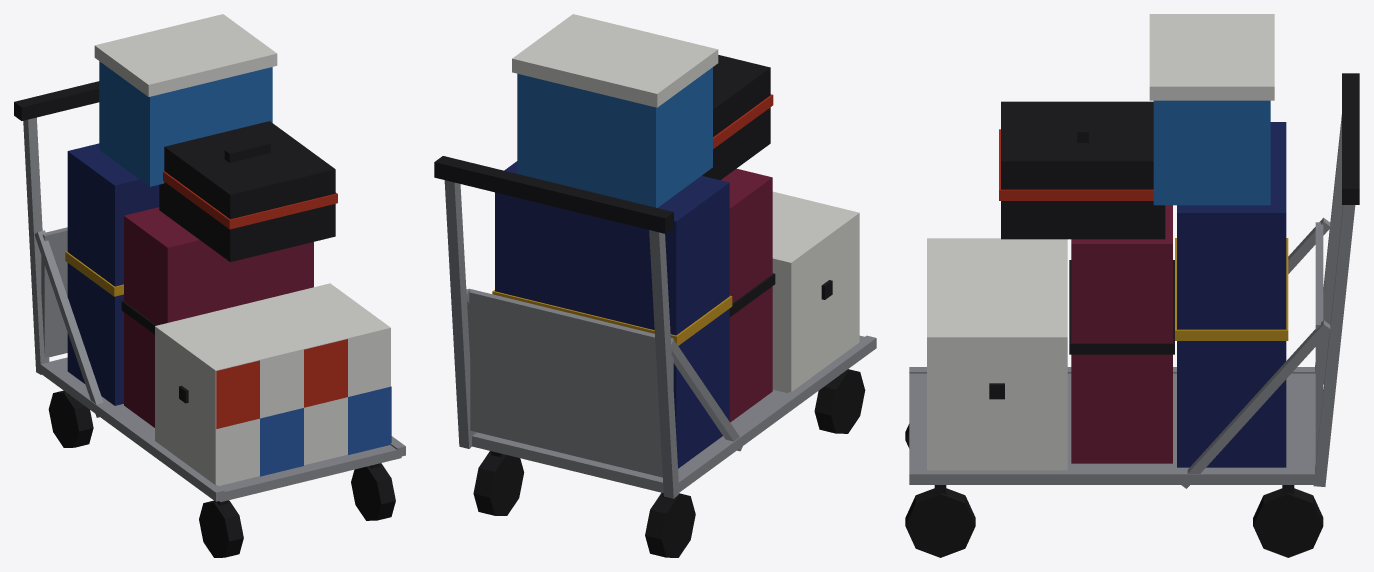
The model's file is prop_trolley.370afc834f6c.glb.
3 views of the same model, side by side, from view 1: azimuth 30°, elevation 25°; view 2: azimuth 150°, elevation 25°; view 3: azimuth 270°, elevation 25° (orthographic). The views are drawn at different scales.
Visible parts, largest first — view 1: body; view 2: body; view 3: body.
Boxes of the visible parts, left/top/right/bottom form: body: left=14, top=14, right=405, bottom=557; body: left=434, top=14, right=876, bottom=557; body: left=905, top=14, right=1359, bottom=557.
Size of the model in its own units: 0.7 by 1.31 by 1.16.
